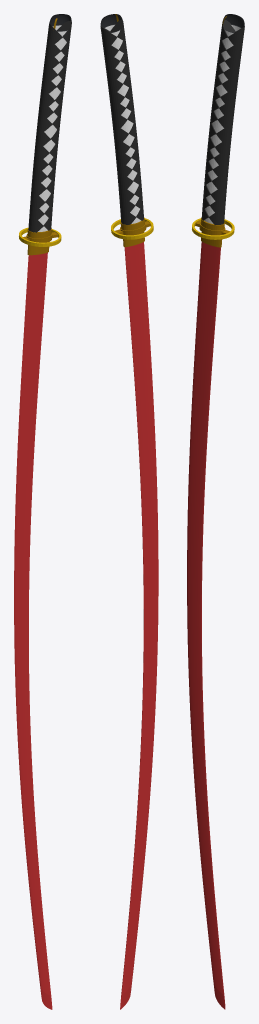
File: katana.fbx
The picture shows the model from 3 angles, left to right: view 1: azimuth 30°, elevation 25°; view 2: azimuth 210°, elevation 25°; view 3: azimuth 330°, elevation 25°; orthographic projection.
Parts seen in each view (by area): view 1: 柱体.010; view 2: 柱体.010; view 3: 柱体.010.
Boxes of the visible parts, left/top/right/bottom form: 柱体.010: left=14, top=14, right=71, bottom=1009; 柱体.010: left=100, top=14, right=158, bottom=1009; 柱体.010: left=187, top=14, right=244, bottom=1009.
Size of the model in its own units: 12.76 by 212 by 8.25.
